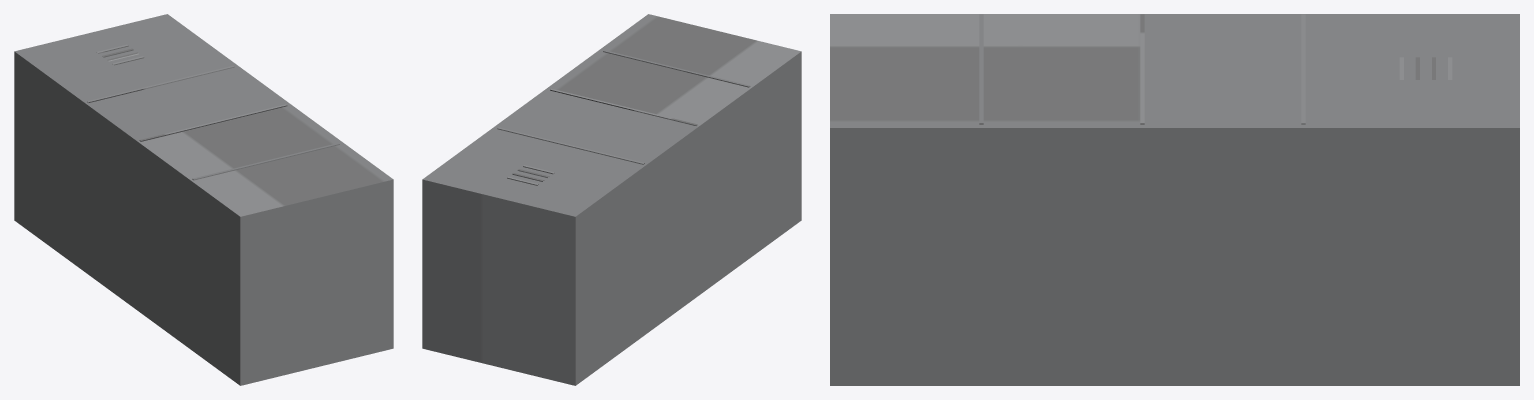
3 renders of one model, left to right at view 1: azimuth 30°, elevation 25°; view 2: azimuth 150°, elevation 25°; view 3: azimuth 270°, elevation 25°, orthographic. The views are drawn at different scales.
Size of the model in its own units: 0.7542 by 0.7998 by 1.93.
